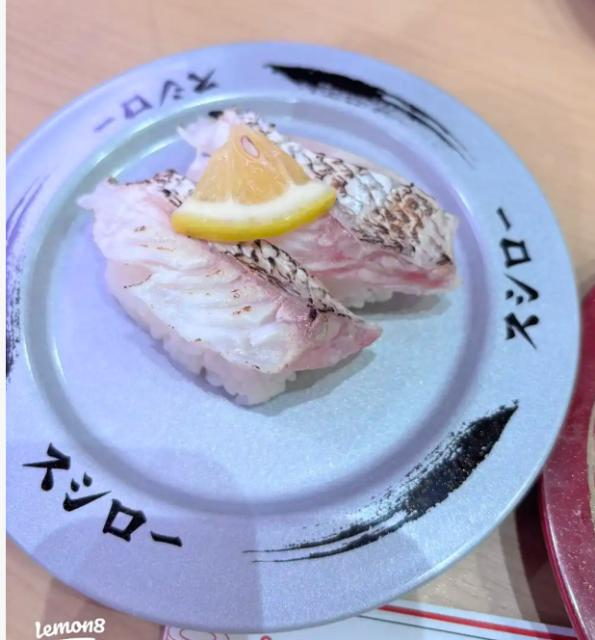janred: (539, 272, 595, 640)
janwhite: (0, 92, 550, 580)
